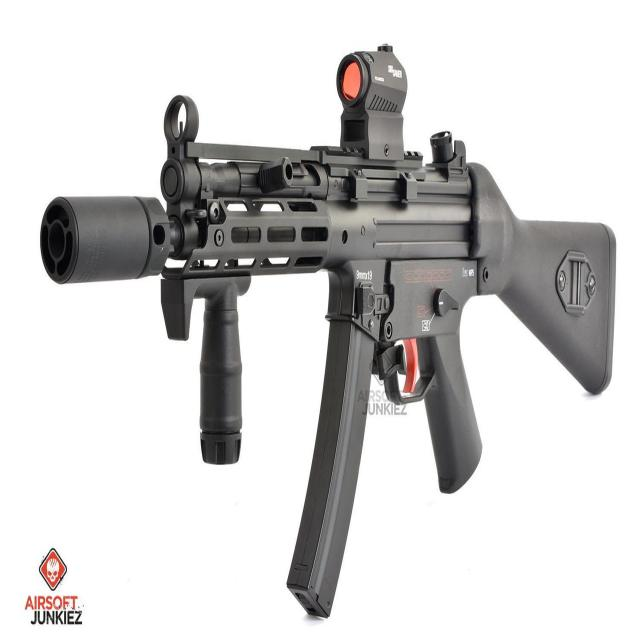SMG: (39, 44, 620, 622)
